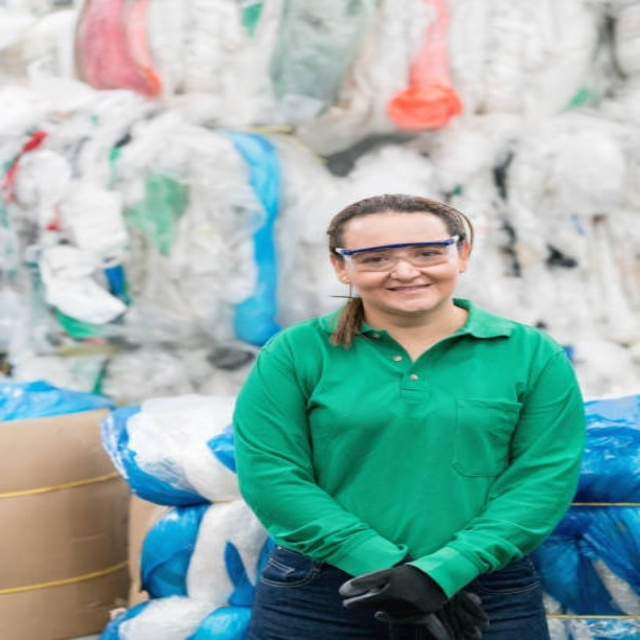Gafas: (337, 236, 462, 273)
Guantes: (340, 564, 446, 620), (438, 588, 490, 640)
Sin_mascara: (372, 279, 439, 306)
